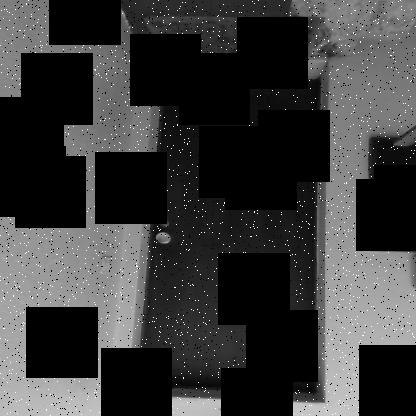Porte: (124, 57, 329, 406)
